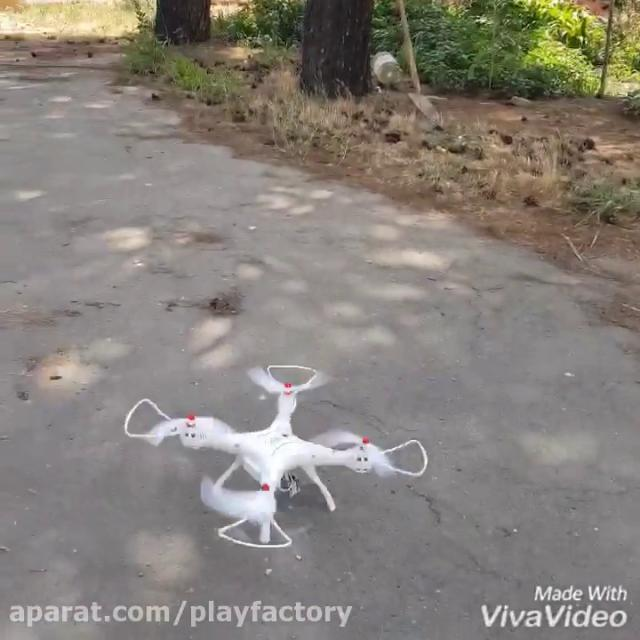drone: (121, 363, 428, 553)
